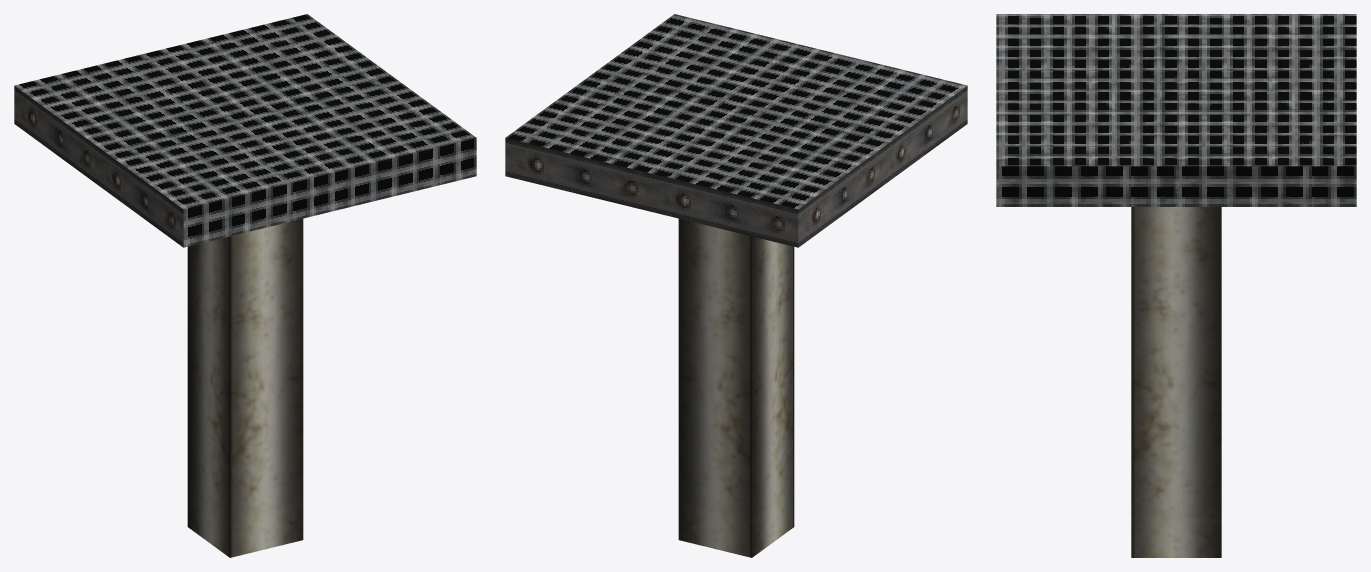
The model's file is pual.obj.
3 renders of one model, left to right at view 1: azimuth 30°, elevation 25°; view 2: azimuth 150°, elevation 25°; view 3: azimuth 270°, elevation 25°, orthographic. The views are drawn at different scales.
Parts seen in each view (by area): view 1: lift1; view 2: lift1; view 3: lift1.
Part boxes in pixels (x1,y1,x2,y2): lift1: (14, 14, 476, 557); lift1: (505, 14, 967, 557); lift1: (996, 14, 1356, 557).
Size of the model in its own units: 3.12 by 4.29 by 3.12.
3 materials, 3 textured.
